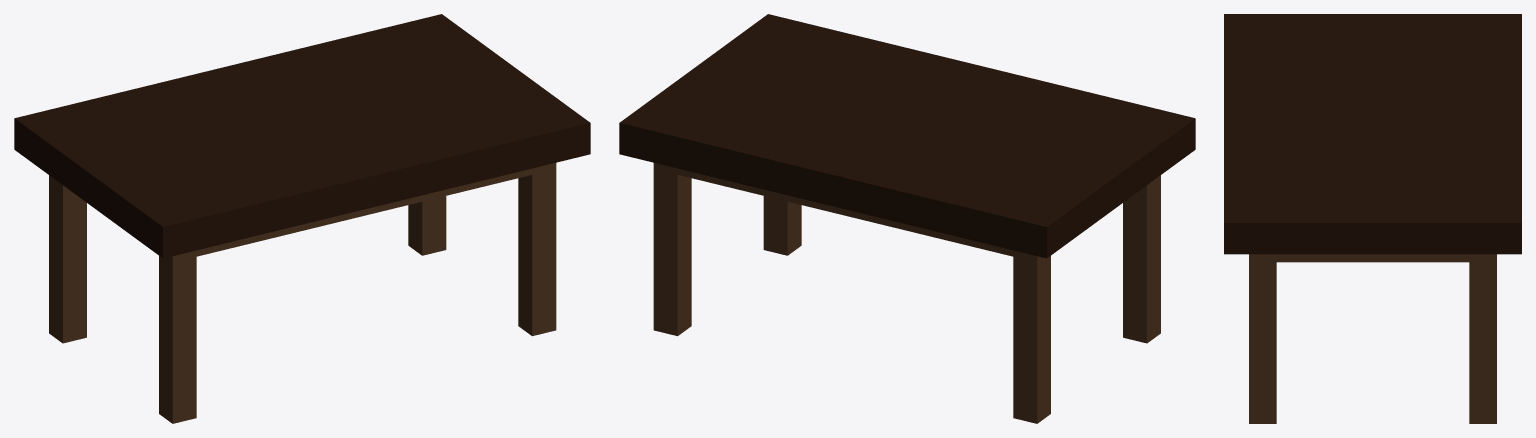
The model's file is stół.FBX.
The picture shows the model from 3 angles, left to right: view 1: azimuth 30°, elevation 25°; view 2: azimuth 150°, elevation 25°; view 3: azimuth 270°, elevation 25°; orthographic projection.
Visible parts, largest first — view 1: Box003; view 2: Box003; view 3: Box003.
Boxes of the visible parts, x1,y1,x2,y2 form: Box003: (14,14,590,423); Box003: (619,14,1195,423); Box003: (1224,14,1521,423).
Size of the model in its own units: 71.08 by 33.59 by 42.84.
